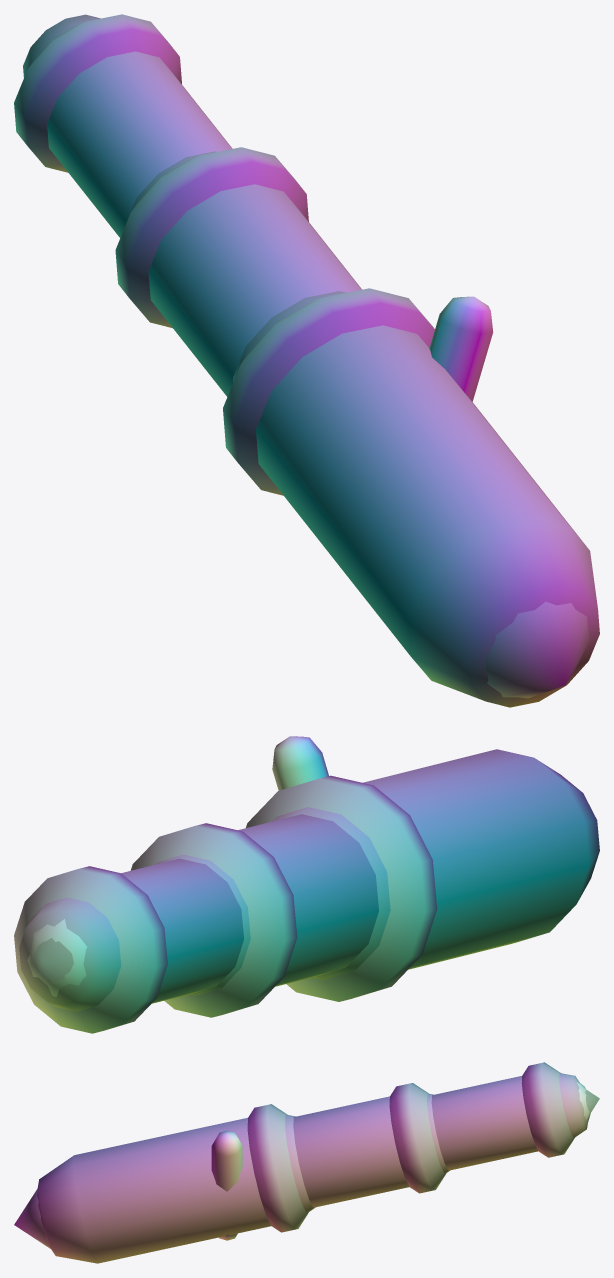
Rendered from acc_spyglass.glb.
3 renders of one model, top to bottom at view 1: azimuth 30°, elevation 25°; view 2: azimuth 150°, elevation 25°; view 3: azimuth 270°, elevation 25°, orthographic. The views are drawn at different scales.
Visible parts, largest first — view 1: spyglass; view 2: spyglass; view 3: spyglass.
Part boxes in pixels (box(x1,y1,x2,y2)): spyglass: box(14, 14, 599, 707); spyglass: box(14, 736, 599, 1033); spyglass: box(14, 1062, 599, 1263).
Bounding box in the file's own units: 0.0389 × 0.063 × 0.1699.
